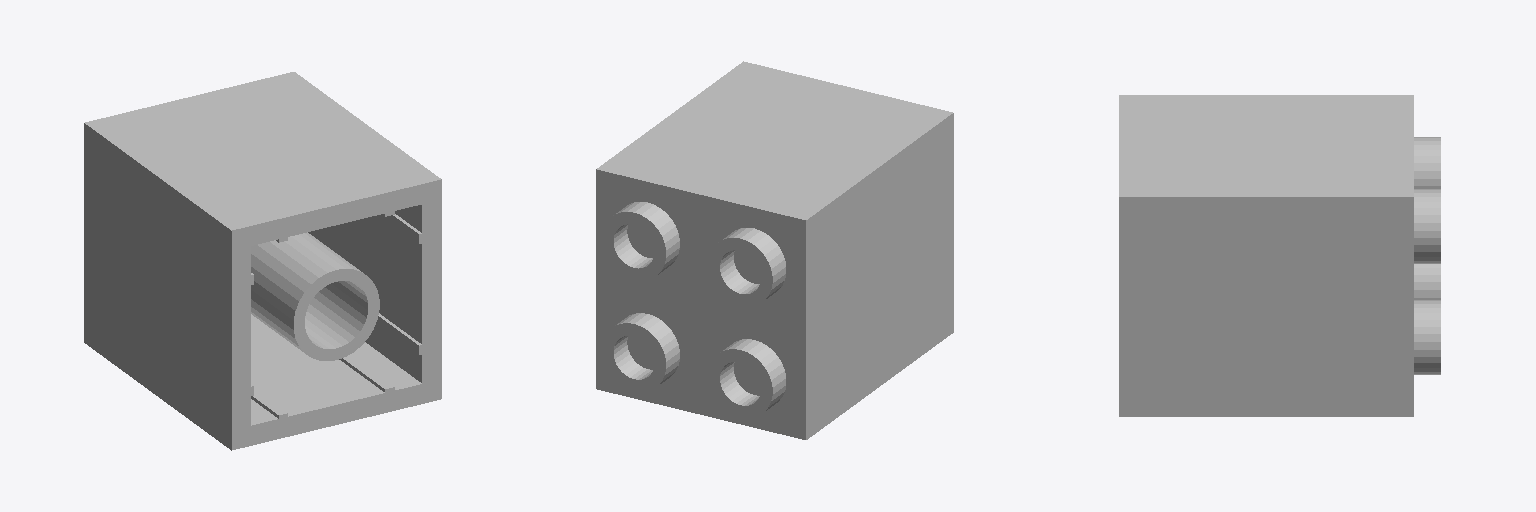
The model's file is duplo5.obj.
The picture shows the model from 3 angles: view 1: azimuth 30°, elevation 25°; view 2: azimuth 150°, elevation 25°; view 3: azimuth 270°, elevation 25°; orthographic projection.
Parts seen in each view (by area): view 1: duplo5; view 2: duplo5; view 3: duplo5.
Part boxes in pixels (left/top/right/bottom): duplo5: left=84, top=72, right=441, bottom=450; duplo5: left=596, top=61, right=953, bottom=439; duplo5: left=1119, top=95, right=1440, bottom=416.
Bounding box in the file's own units: 0.0643 × 0.0643 × 0.0855.